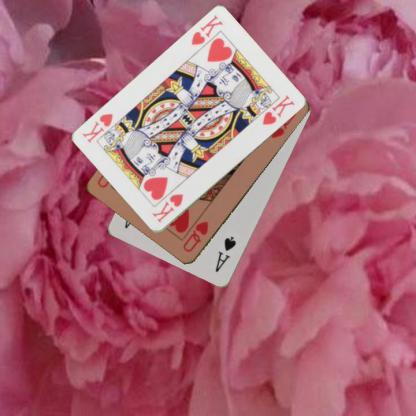As: (212, 233, 237, 274)
Kh: (188, 13, 224, 47), (150, 191, 184, 224)
Qh: (180, 219, 210, 254)
